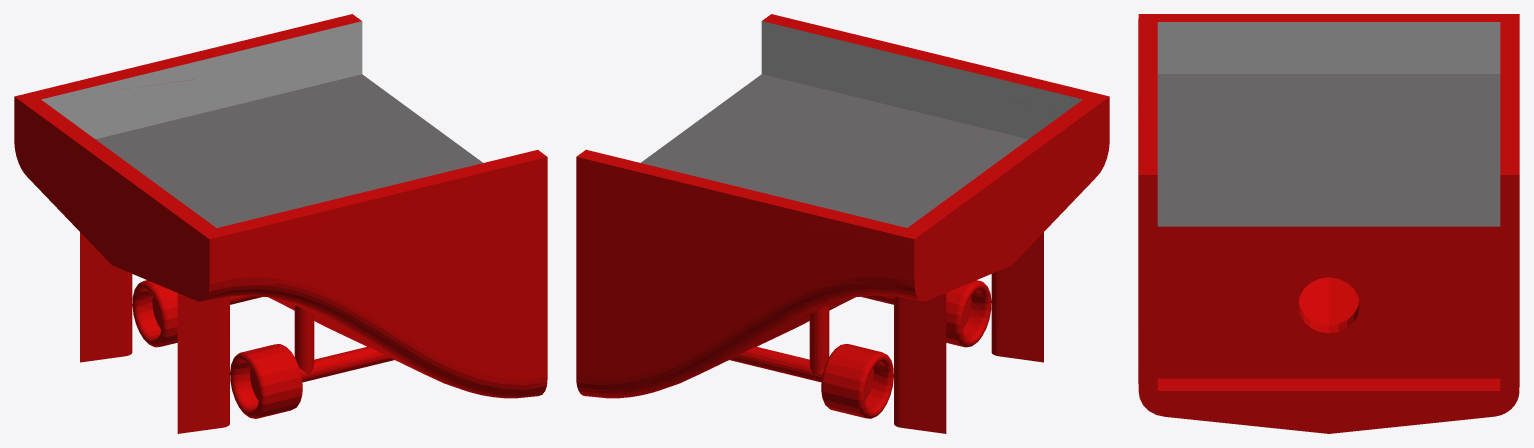
File: sternSimple.dae
The picture shows the model from 3 angles, left to right: view 1: azimuth 30°, elevation 25°; view 2: azimuth 150°, elevation 25°; view 3: azimuth 270°, elevation 25°; orthographic projection. The views are drawn at different scales.
Parts seen in each view (by area): view 1: Stern_simple; view 2: Stern_simple; view 3: Stern_simple.
Boxes of the visible parts, <box> form: Stern_simple: <box>14,14,547,433</box>; Stern_simple: <box>576,14,1109,433</box>; Stern_simple: <box>1138,14,1519,433</box>.
Bounding box in the file's own units: 40 × 40.01 × 30.
